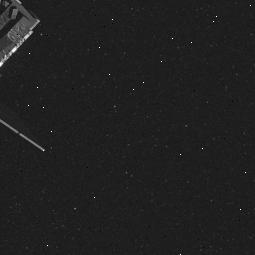soho: (0, 2, 58, 147)
